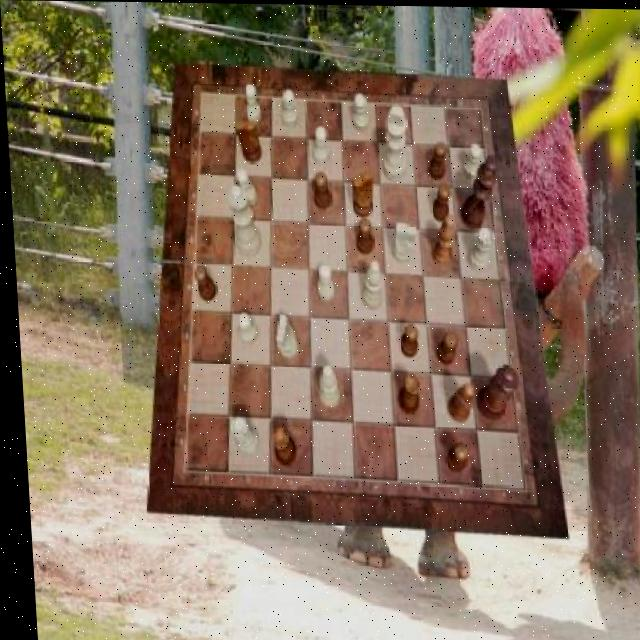bishop: (428, 213, 455, 265), (442, 382, 472, 422)
black-bishop: (456, 153, 497, 228)
black-king: (349, 170, 374, 218), (235, 119, 261, 162)
black-knight: (426, 140, 448, 179), (428, 184, 450, 221), (430, 331, 454, 364), (191, 265, 213, 301), (440, 442, 465, 473), (352, 218, 371, 254), (311, 170, 329, 207), (397, 323, 416, 357)
black-pawn: (471, 363, 517, 421)
black-queen: (392, 372, 417, 412), (267, 426, 292, 465)
black-rook: (356, 260, 380, 309), (312, 363, 337, 408)
white-bishop: (377, 103, 408, 181)
white-king: (270, 314, 294, 359), (389, 223, 415, 263)
white-knight: (460, 143, 482, 180), (234, 169, 255, 205), (234, 313, 256, 346), (243, 83, 261, 123), (310, 127, 328, 165), (350, 92, 368, 130), (280, 89, 297, 128), (314, 264, 332, 300)
white-pawn: (225, 184, 260, 255)
white-queen: (464, 225, 494, 271), (226, 416, 255, 454)
